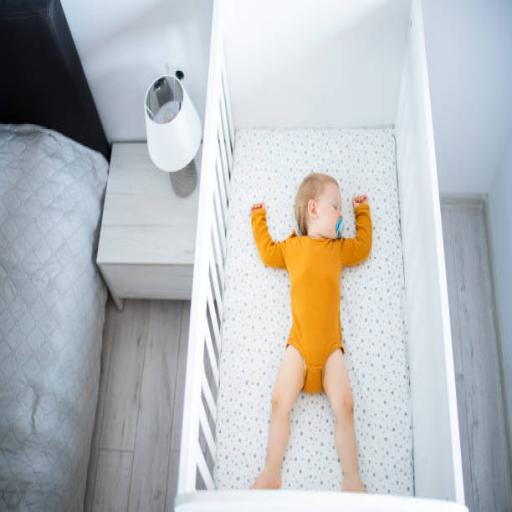baby: (251, 174, 372, 491)
crib: (175, 0, 465, 510)
